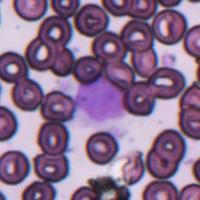L: (74, 76, 126, 125)
